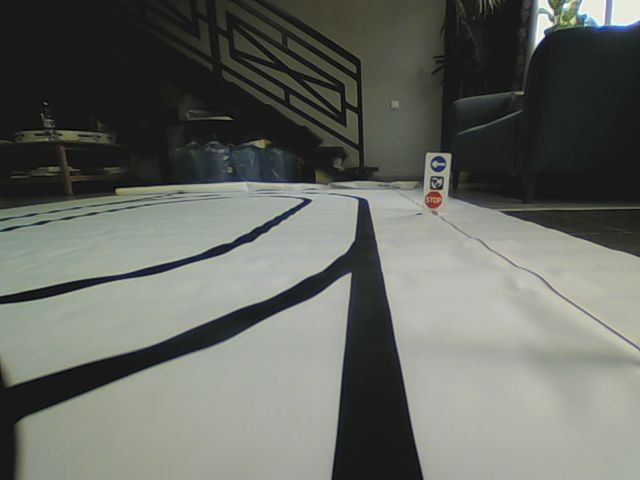Stop: (423, 190, 443, 210)
